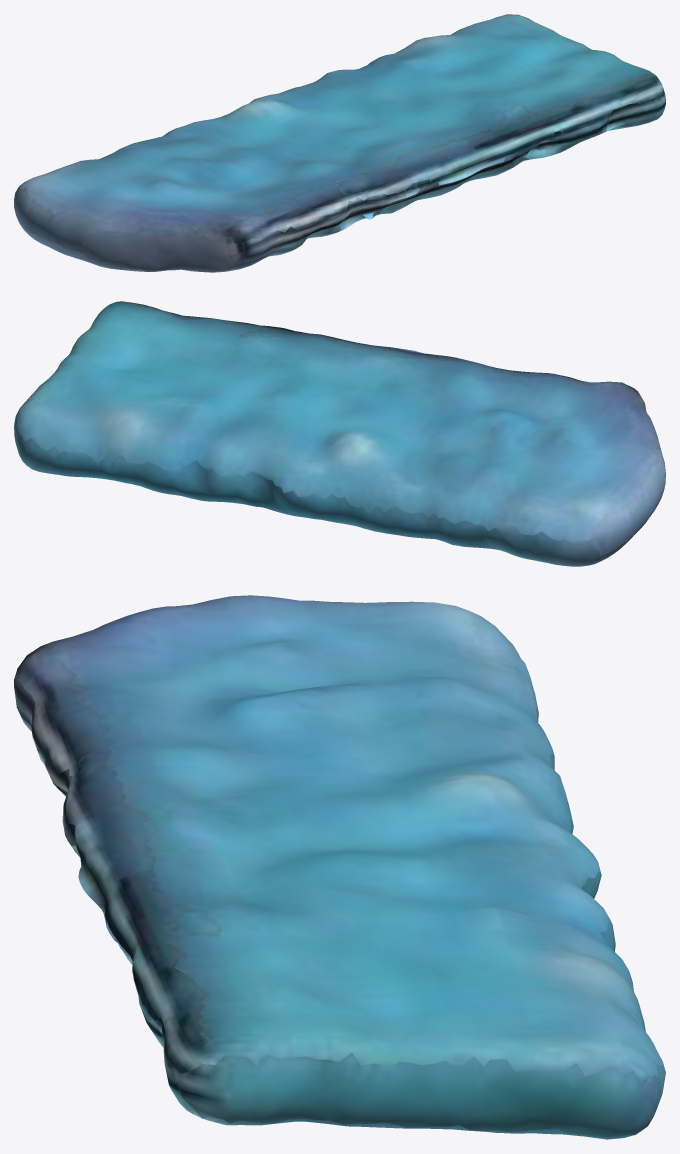
File: 0_drawer.glb
3 views of the same model, one above another, from view 1: azimuth 30°, elevation 25°; view 2: azimuth 150°, elevation 25°; view 3: azimuth 270°, elevation 25° (orthographic). The views are drawn at different scales.
Parts seen in each view (by area): view 1: 0_drawer; view 2: 0_drawer; view 3: 0_drawer.
Boxes of the visible parts, <box> form: 0_drawer: <box>14,14,665,272</box>; 0_drawer: <box>14,301,665,566</box>; 0_drawer: <box>14,595,665,1139</box>.
Size of the model in its own units: 0.4515 by 0.0607 by 0.2465.
Materials: 1 (1 with a texture image).
